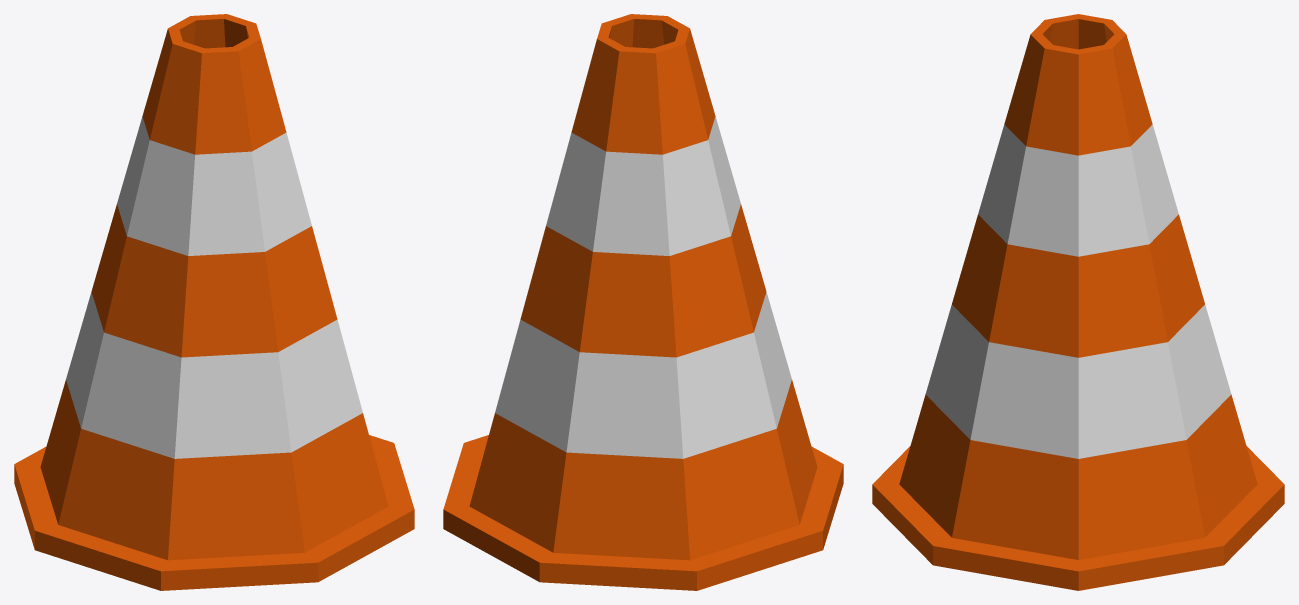
The model's file is Conus.fbx.
3 views of the same model, side by side, from view 1: azimuth 30°, elevation 25°; view 2: azimuth 150°, elevation 25°; view 3: azimuth 270°, elevation 25° (orthographic).
Visible parts, largest first — view 1: Conus 1.026; view 2: Conus 1.026; view 3: Conus 1.026.
Part boxes in pixels (left/top/right/bottom): Conus 1.026: left=14, top=14, right=414, bottom=590; Conus 1.026: left=443, top=14, right=843, bottom=590; Conus 1.026: left=872, top=14, right=1284, bottom=590.
Bounding box in the file's own units: 78.22 × 98.34 × 78.22.
